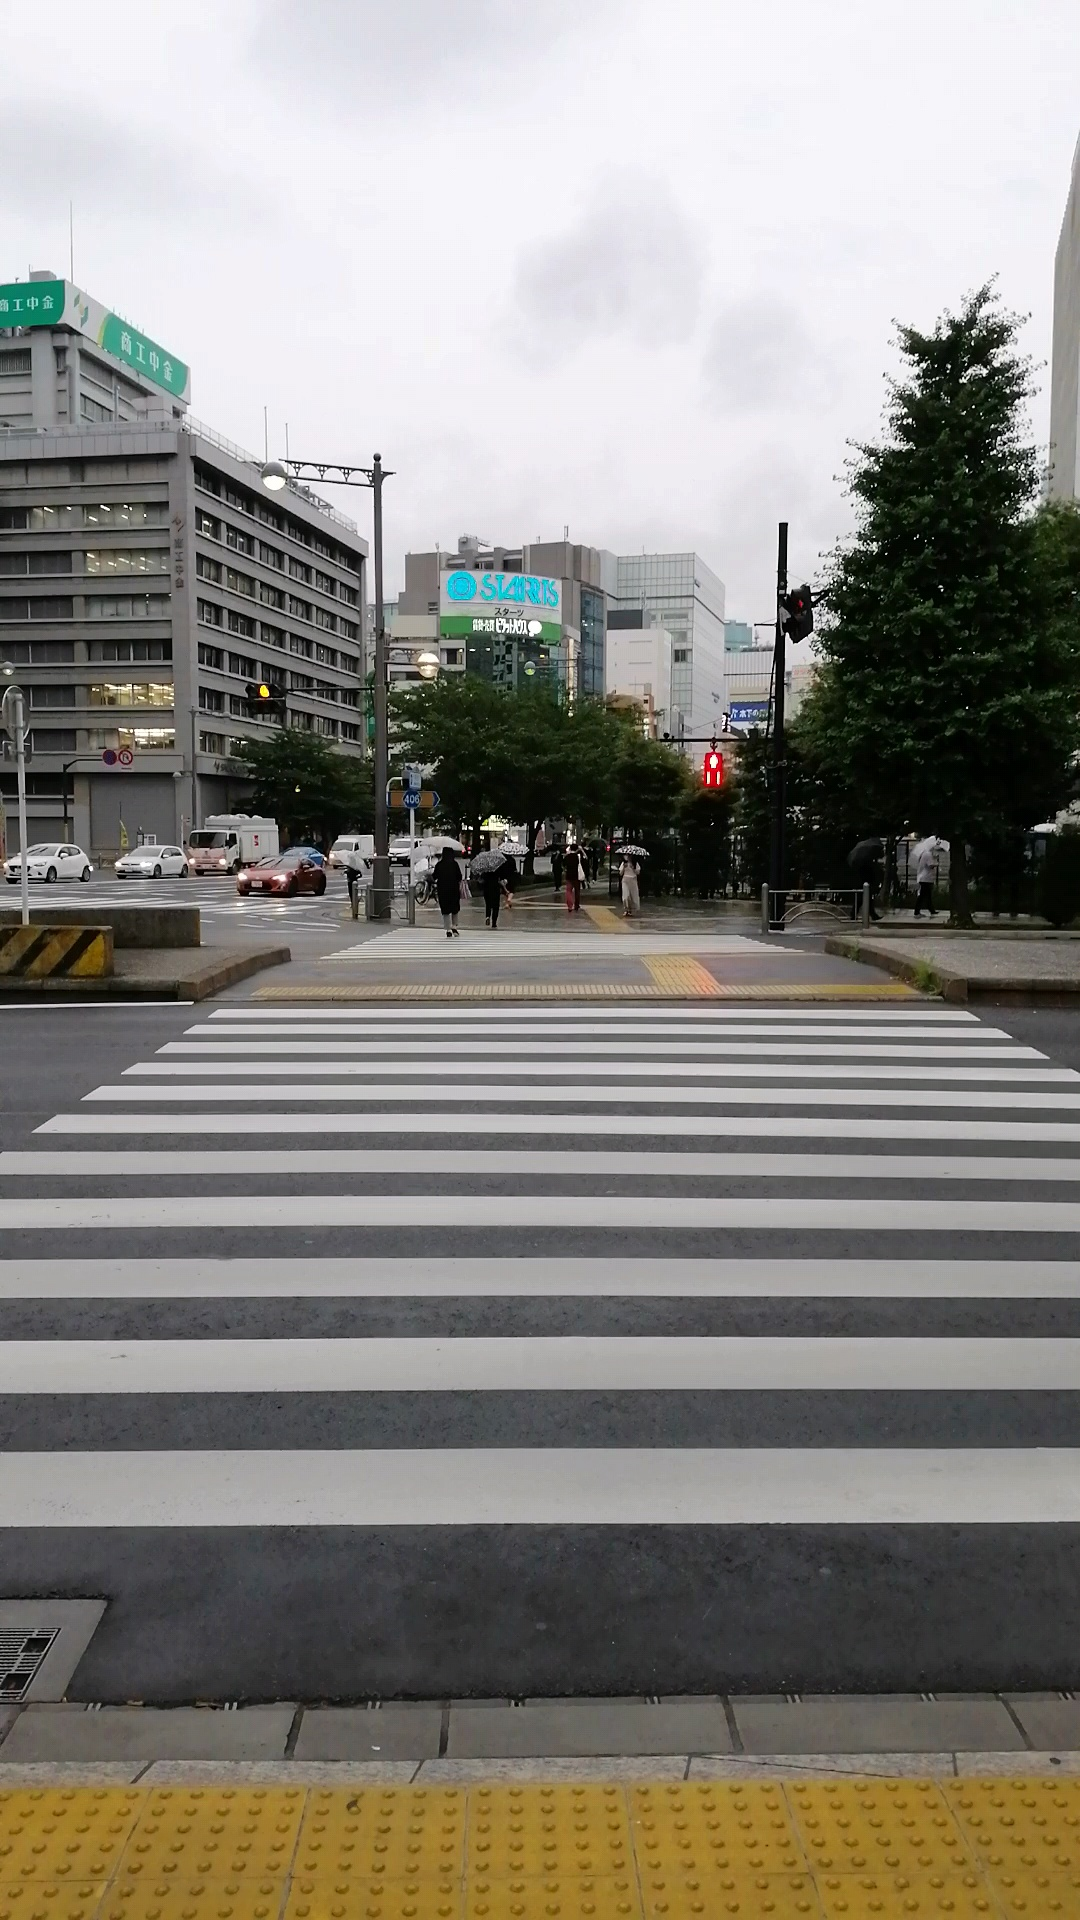red: (703, 752, 724, 789)
